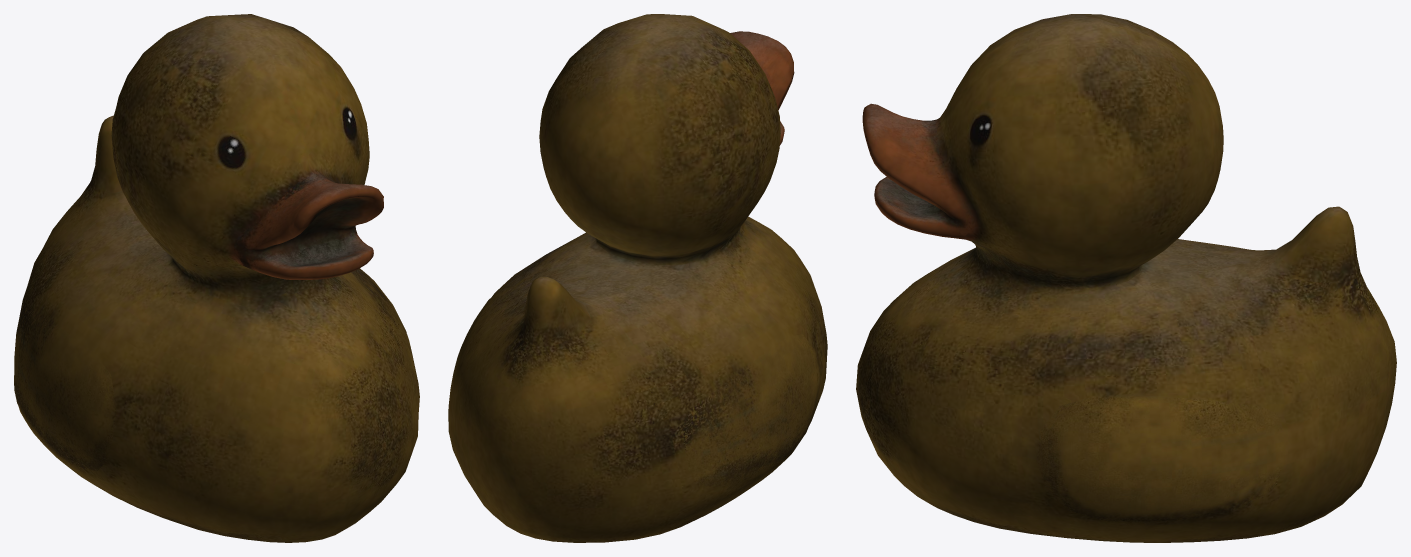
The model's file is canard-en-caoutchouc-d-astronaute.glb.
The picture shows the model from 3 angles, left to right: view 1: azimuth 30°, elevation 25°; view 2: azimuth 150°, elevation 25°; view 3: azimuth 270°, elevation 25°; orthographic projection. The views are drawn at different scales.
Parts seen in each view (by area): view 1: rubber_duck_toy; view 2: rubber_duck_toy; view 3: rubber_duck_toy.
Boxes of the visible parts, x1,y1,x2,y2 form: rubber_duck_toy: [14, 14, 419, 542]; rubber_duck_toy: [448, 14, 827, 542]; rubber_duck_toy: [856, 14, 1396, 542].
Bounding box in the file's own units: 0.2135 × 0.2855 × 0.3.
1 material, 1 textured.
